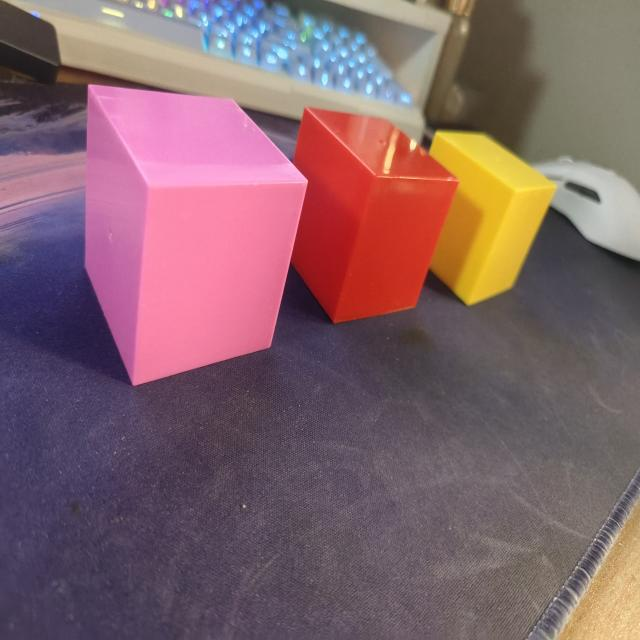pink: (76, 78, 313, 398)
red: (290, 107, 462, 325)
yellow: (428, 130, 559, 308)
